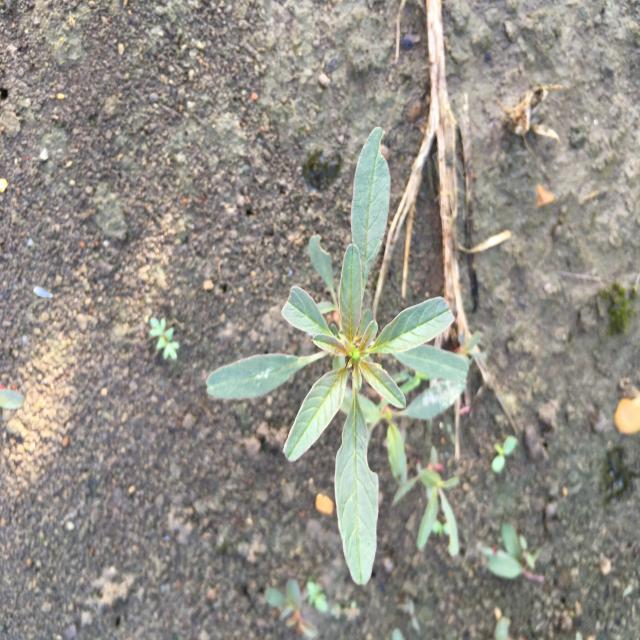Waterhemp: (202, 125, 473, 589)
